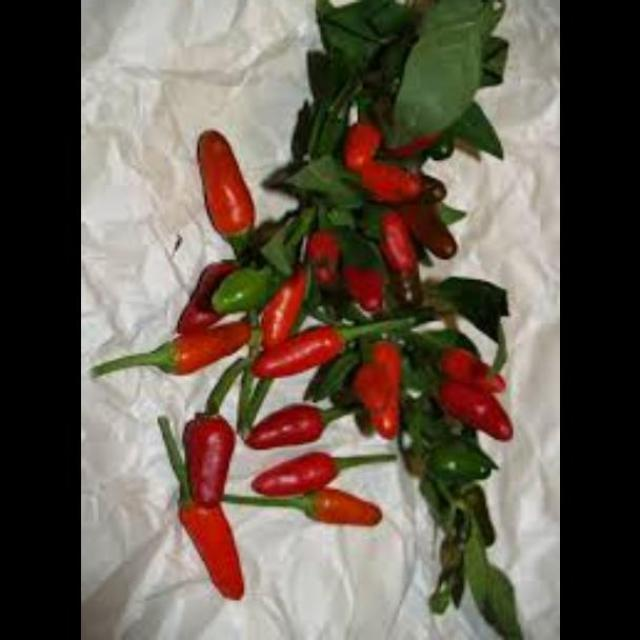hot pepper: (172, 480, 258, 606), (427, 320, 514, 438), (190, 124, 260, 249), (144, 310, 256, 378), (173, 402, 235, 516), (386, 168, 466, 256), (342, 347, 416, 440), (248, 264, 318, 359), (245, 334, 357, 392), (174, 251, 244, 338), (308, 238, 388, 314), (233, 399, 339, 454), (296, 481, 389, 530), (252, 458, 346, 502), (354, 161, 427, 214), (321, 122, 386, 180), (373, 206, 423, 280)
